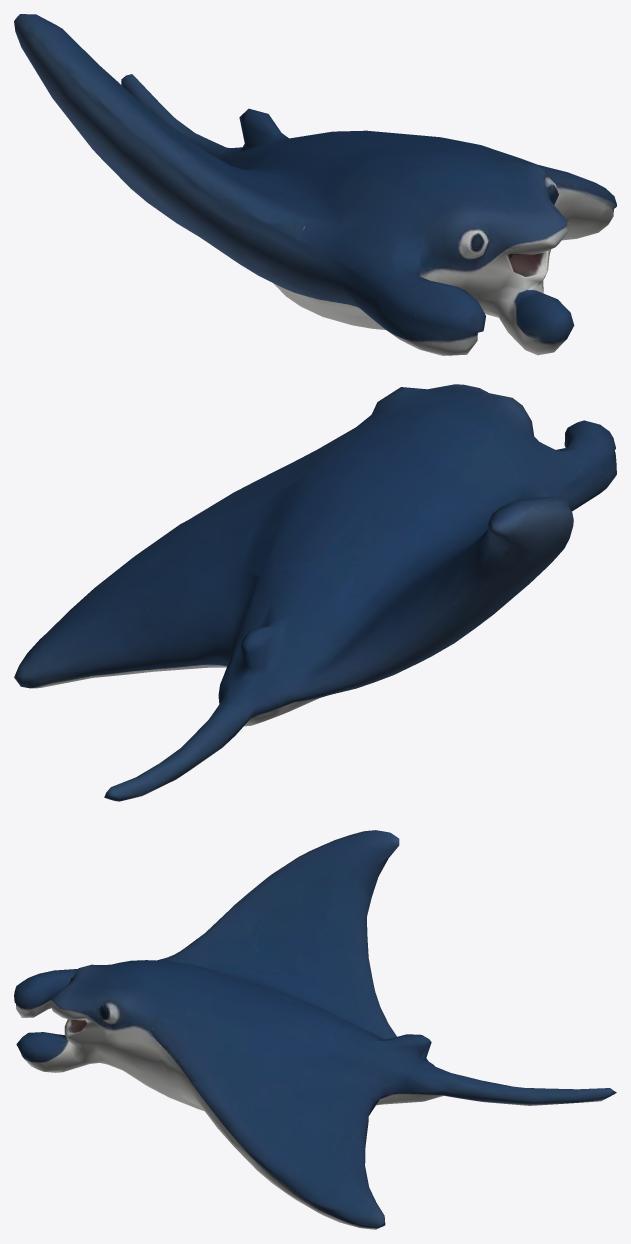
Rendered from fish-manta.glb.
The picture shows the model from 3 angles, top to bottom: view 1: azimuth 30°, elevation 25°; view 2: azimuth 150°, elevation 25°; view 3: azimuth 270°, elevation 25°; orthographic projection. The views are drawn at different scales.
Parts seen in each view (by area): view 1: tripo_node_fa31fcb0-de1c-4ad9-872e-c625bc9e26ce; view 2: tripo_node_fa31fcb0-de1c-4ad9-872e-c625bc9e26ce; view 3: tripo_node_fa31fcb0-de1c-4ad9-872e-c625bc9e26ce.
Boxes of the visible parts, box(x1,y1,x2,y2) form: tripo_node_fa31fcb0-de1c-4ad9-872e-c625bc9e26ce: box(14, 14, 616, 355); tripo_node_fa31fcb0-de1c-4ad9-872e-c625bc9e26ce: box(14, 384, 616, 801); tripo_node_fa31fcb0-de1c-4ad9-872e-c625bc9e26ce: box(14, 830, 616, 1229).
Size of the model in its own units: 0.7291 by 0.4043 by 1.
Materials: 1 (1 with a texture image).
